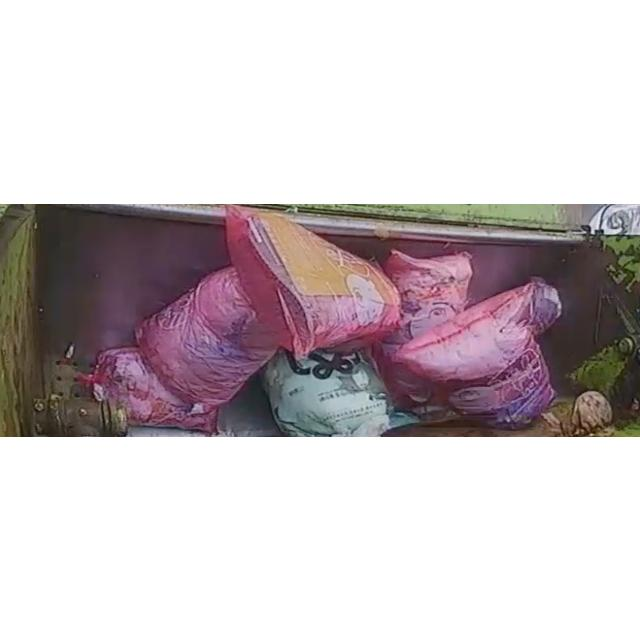general_trashbag: (262, 348, 392, 436)
other_trashbag: (226, 204, 400, 357), (395, 280, 561, 427), (135, 266, 290, 406), (376, 248, 472, 409), (91, 347, 218, 432)
